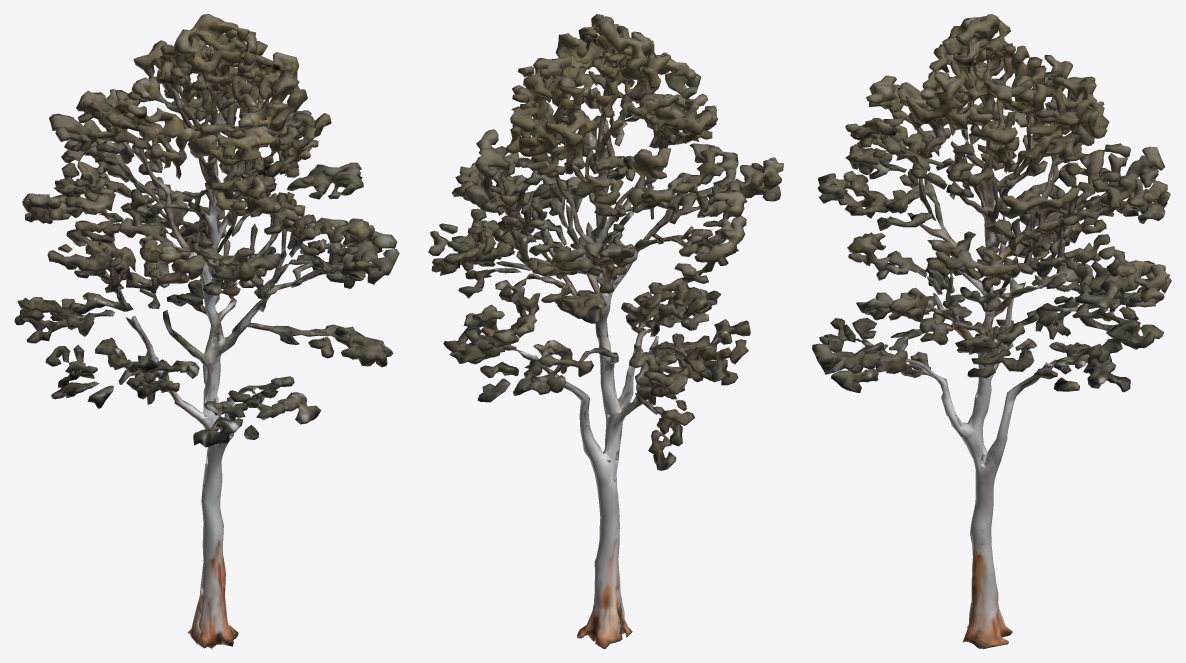
File: AI_GhostGum02.fbx
The picture shows the model from 3 angles, left to right: view 1: azimuth 30°, elevation 25°; view 2: azimuth 150°, elevation 25°; view 3: azimuth 270°, elevation 25°; orthographic projection.
Visible parts, largest first — view 1: Mesh1.0; view 2: Mesh1.0; view 3: Mesh1.0.
Boxes of the visible parts, x1=… form: Mesh1.0: x1=14, y1=14, x2=399, y2=648; Mesh1.0: x1=428, y1=14, x2=783, y2=648; Mesh1.0: x1=812, y1=14, x2=1171, y2=648.
Bounding box in the file's own units: 107 × 201 × 105.
1 material, 1 textured.
